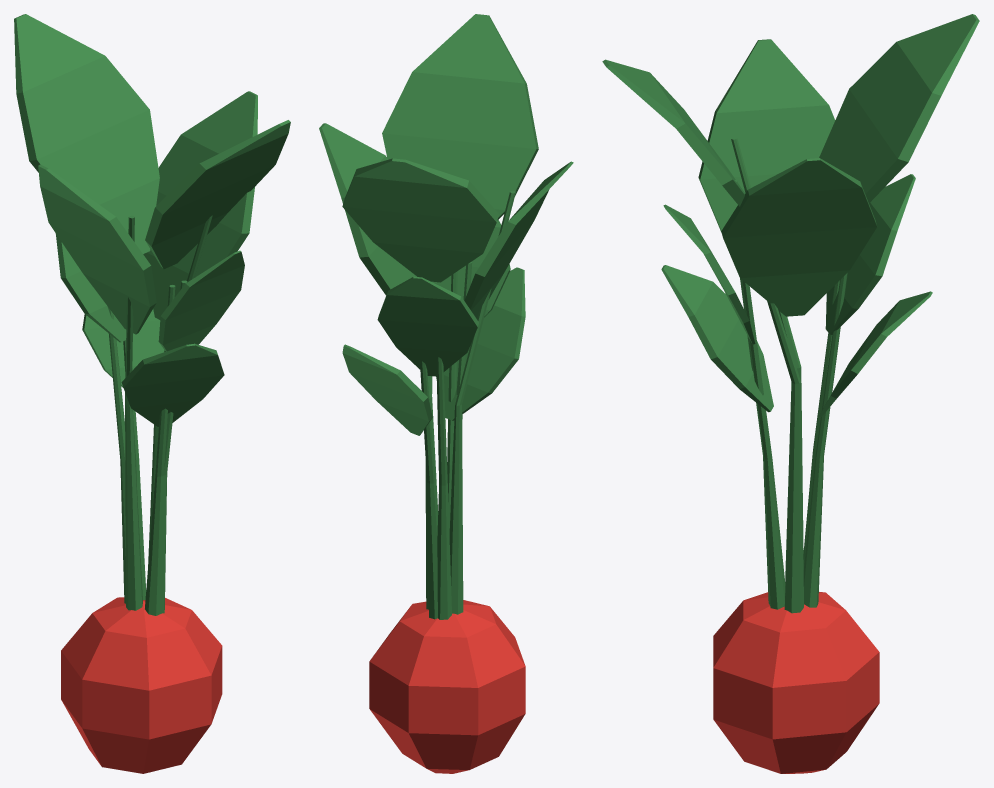
Rendered from radish.fbx.
The picture shows the model from 3 angles, left to right: view 1: azimuth 30°, elevation 25°; view 2: azimuth 150°, elevation 25°; view 3: azimuth 270°, elevation 25°; orthographic projection. The views are drawn at different scales.
Visible parts, largest first — view 1: radish; view 2: radish; view 3: radish.
Part boxes in pixels (x1,y1,x2,y2): radish: [14, 14, 290, 773]; radish: [319, 14, 573, 773]; radish: [602, 14, 979, 773].
Bounding box in the file's own units: 16.99 × 47.7 × 22.21.
